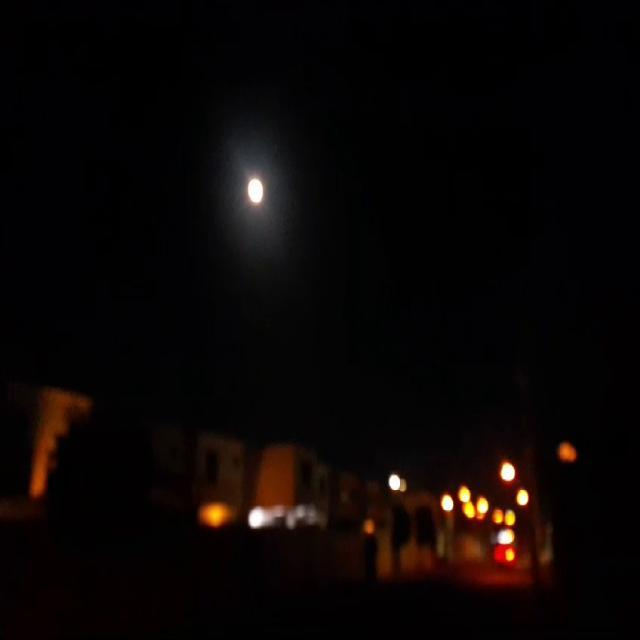moon: (245, 168, 267, 202)
